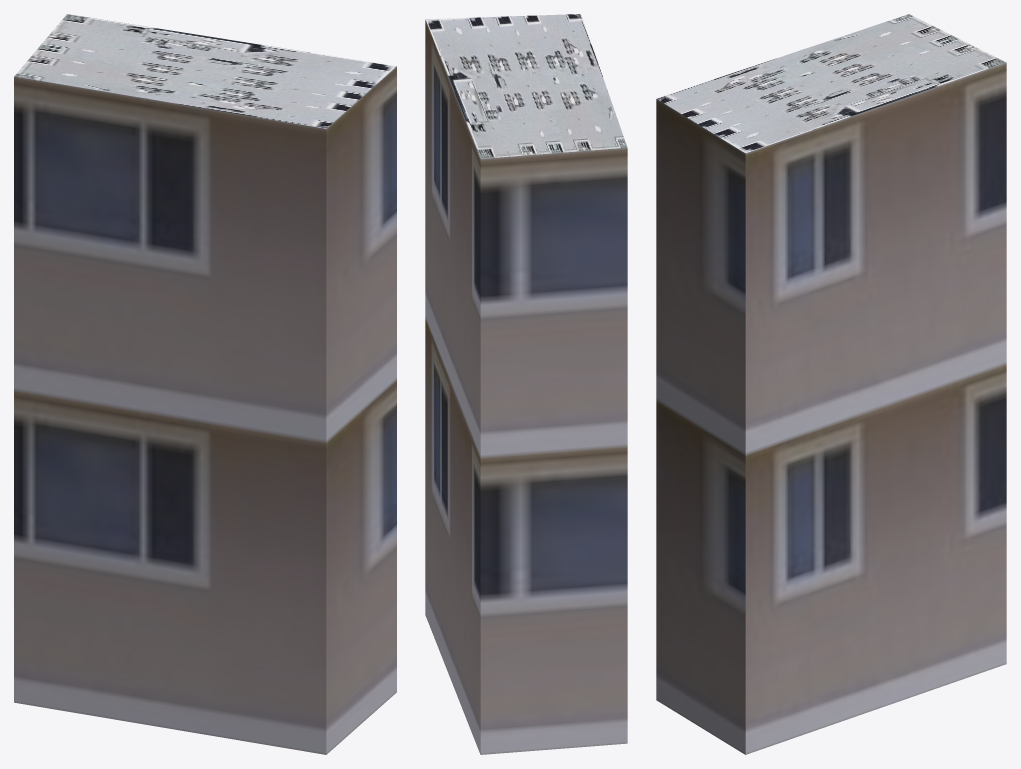
File: ResTex__3496.fbx
The picture shows the model from 3 angles, left to right: view 1: azimuth 30°, elevation 25°; view 2: azimuth 150°, elevation 25°; view 3: azimuth 270°, elevation 25°; orthographic projection. The views are drawn at different scales.
Visible parts, largest first — view 1: CityEngineMaterial_21_m, CityEngineMaterial_2_m; view 2: CityEngineMaterial_21_m, CityEngineMaterial_2_m; view 3: CityEngineMaterial_21_m, CityEngineMaterial_2_m.
Part boxes in pixels (bbox=[...]): CityEngineMaterial_21_m: bbox=[14, 66, 396, 754]; CityEngineMaterial_2_m: bbox=[14, 14, 396, 128]; CityEngineMaterial_21_m: bbox=[425, 19, 627, 754]; CityEngineMaterial_2_m: bbox=[425, 14, 627, 158]; CityEngineMaterial_21_m: bbox=[656, 62, 1006, 754]; CityEngineMaterial_2_m: bbox=[656, 14, 1006, 153].
Bounding box in the file's own units: 2.98 × 6 × 3.17.
2 materials, 2 textured.
